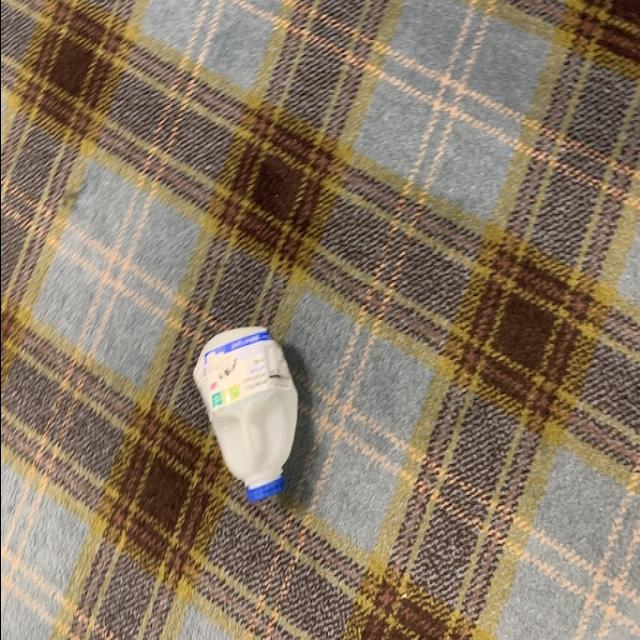HDPEM: (189, 316, 297, 508)
